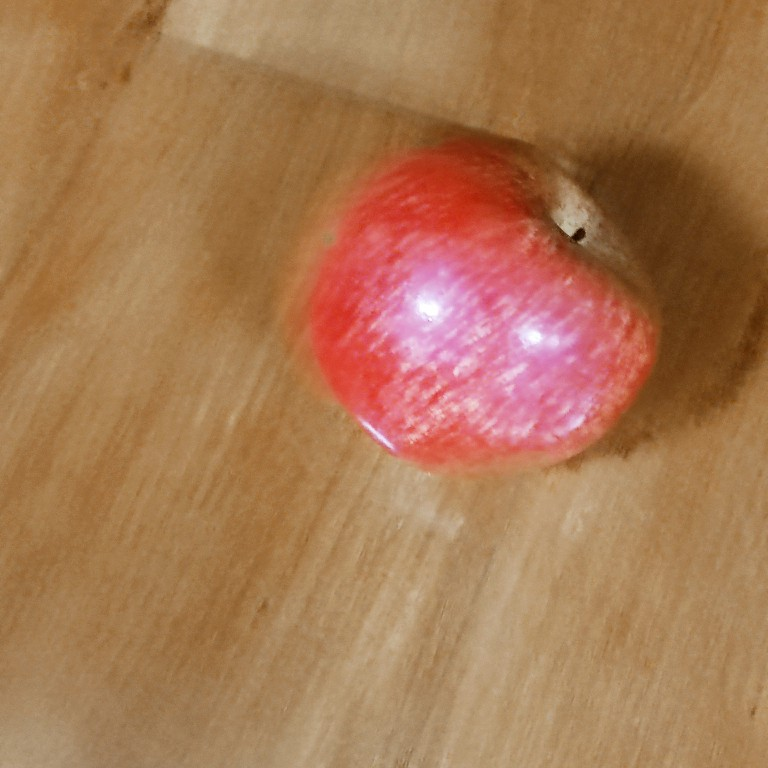fruit_apple: (303, 129, 672, 482)
